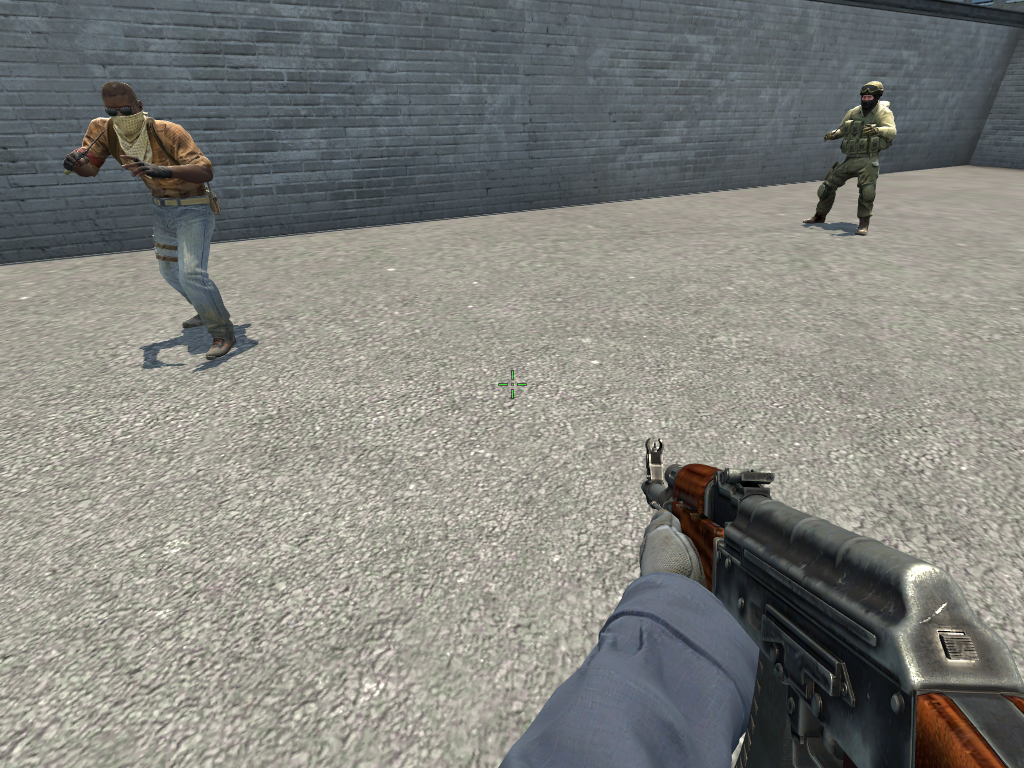ct head: (858, 79, 884, 111)
tr head: (98, 78, 146, 138)
